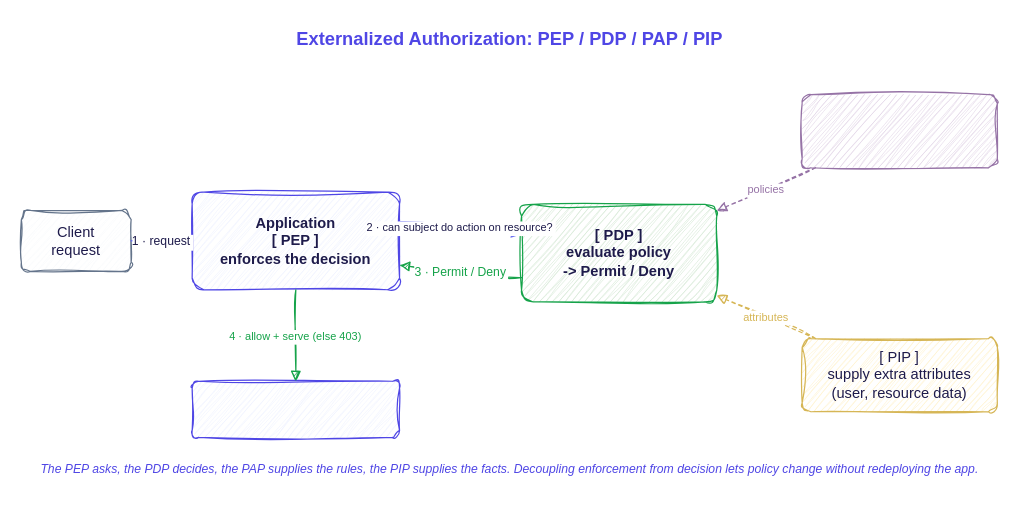
Some shapes in this 1019 by 508 pixel diagram are drawn without their labels. The shapes that lost their labels are listed below. From the top down, each one's centre as x and y in pixels, then its label:
At (899,130): "[ PAP ] author + manage policies".
At (295,408): "Protected resource".
